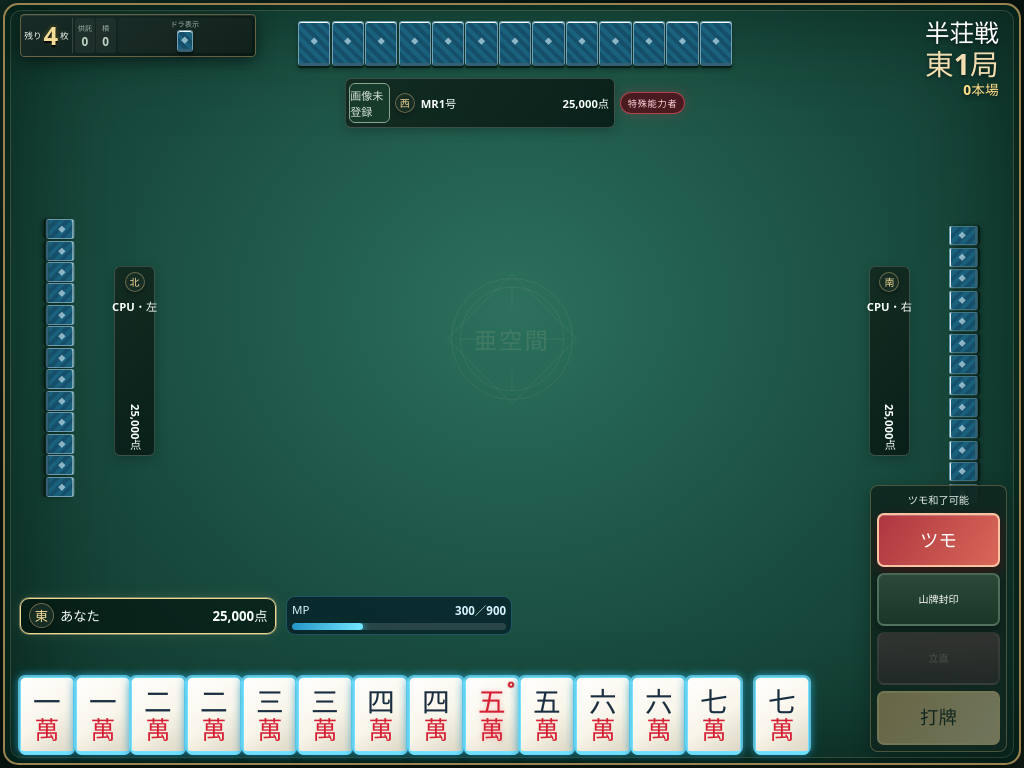
Test case: プレイヤースキル3-8の画面操作 › 発動すると通常山とMPを減らしてボタンを消す
Check: the text "4" is shown, box 44,23 -> 58,49
Step 1. Click the button "山牌封印" → [938, 599], box 877,572 -> 1000,626
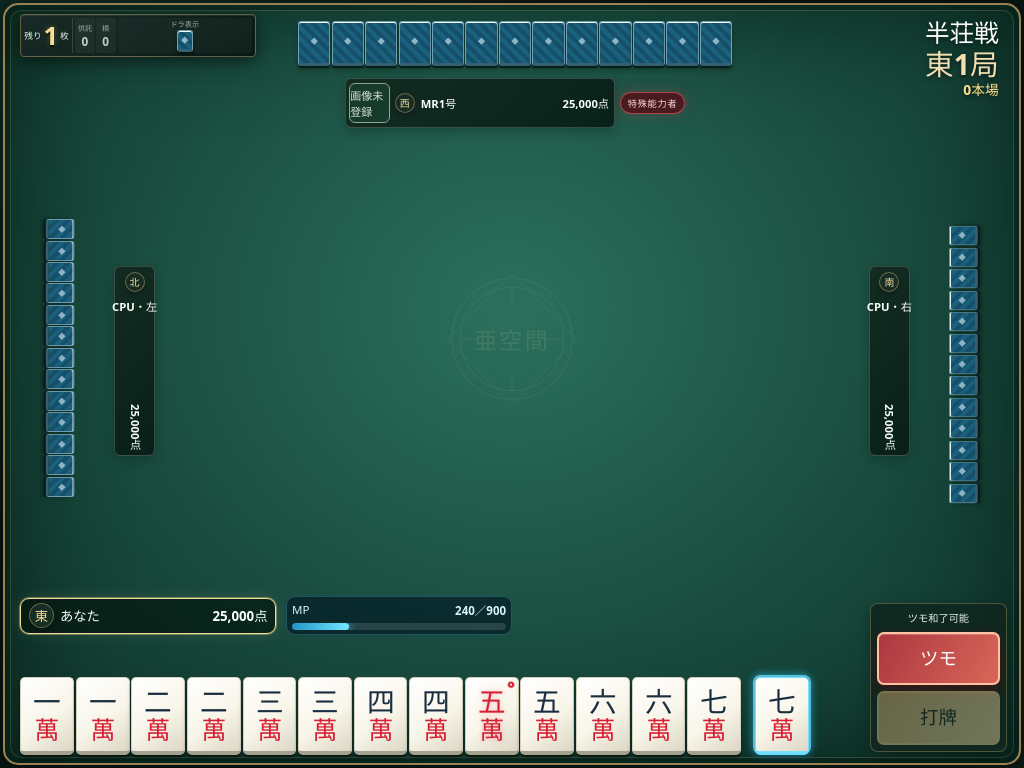
Check: the text "1" is shown, box 44,23 -> 58,49
Check: the button "山牌封印" is gone
